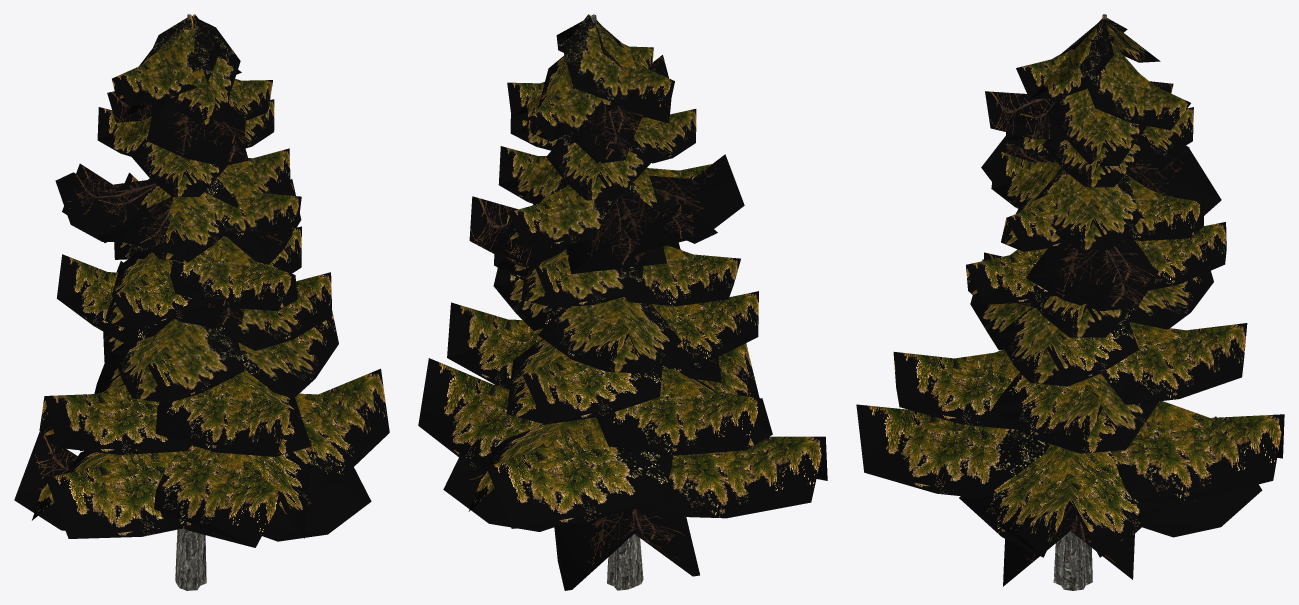
File: ShortPine001.DAE
3 renders of one model, left to right at view 1: azimuth 30°, elevation 25°; view 2: azimuth 150°, elevation 25°; view 3: azimuth 270°, elevation 25°, orthographic. The views are drawn at different scales.
Visible parts, largest first — view 1: Pine200, Pine256; view 2: Pine200, Pine256; view 3: Pine200, Pine256.
Part boxes in pixels (x1,y1,x2,y2): Pine200: (14, 14, 388, 582); Pine256: (15, 14, 389, 590); Pine200: (418, 14, 827, 590); Pine256: (420, 14, 826, 590); Pine200: (856, 17, 1284, 586); Pine256: (866, 14, 1284, 590).
Size of what is drawn, in the model's own units: 10.35 by 10.29 by 15.26.
